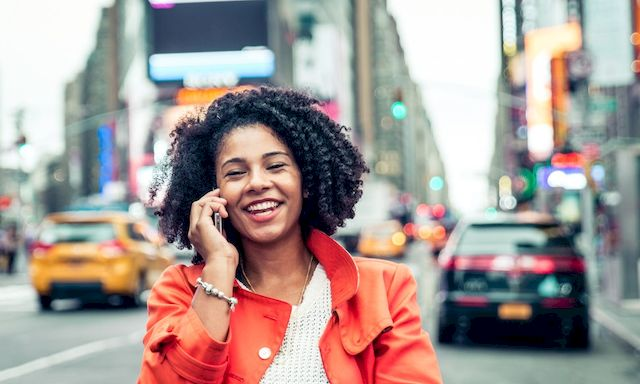phone: (197, 196, 235, 246)
talk: (183, 148, 301, 272)
